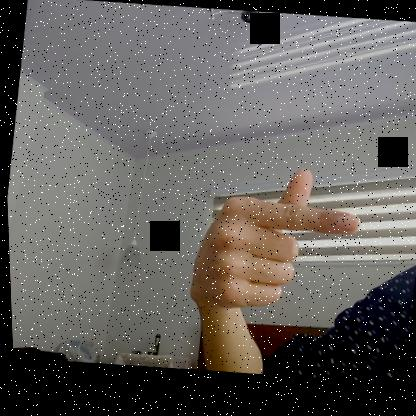T: (180, 152, 369, 340)
